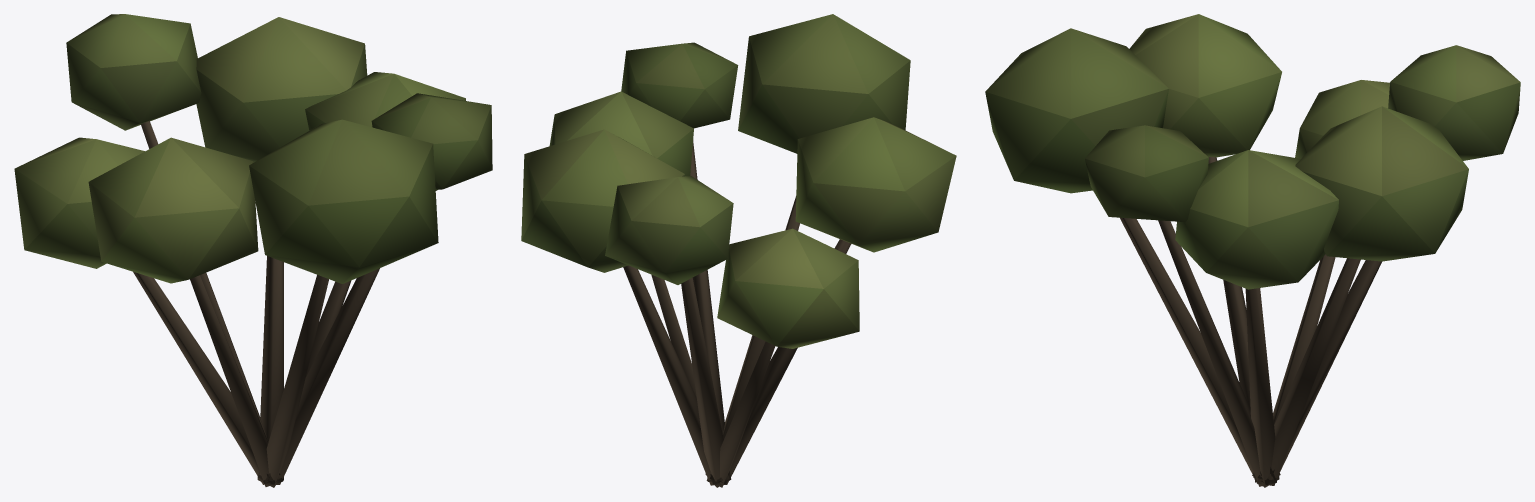
The model's file is env_creosote.glb.
3 views of the same model, side by side, from view 1: azimuth 30°, elevation 25°; view 2: azimuth 150°, elevation 25°; view 3: azimuth 270°, elevation 25° (orthographic). The views are drawn at different scales.
Parts seen in each view (by area): view 1: env_creosote; view 2: env_creosote; view 3: env_creosote.
Part boxes in pixels (x1,y1,x2,y2): env_creosote: (14,14,492,487); env_creosote: (521,14,956,487); env_creosote: (985,14,1520,487).
Size of the model in its own units: 1.71 by 1.86 by 2.03.
